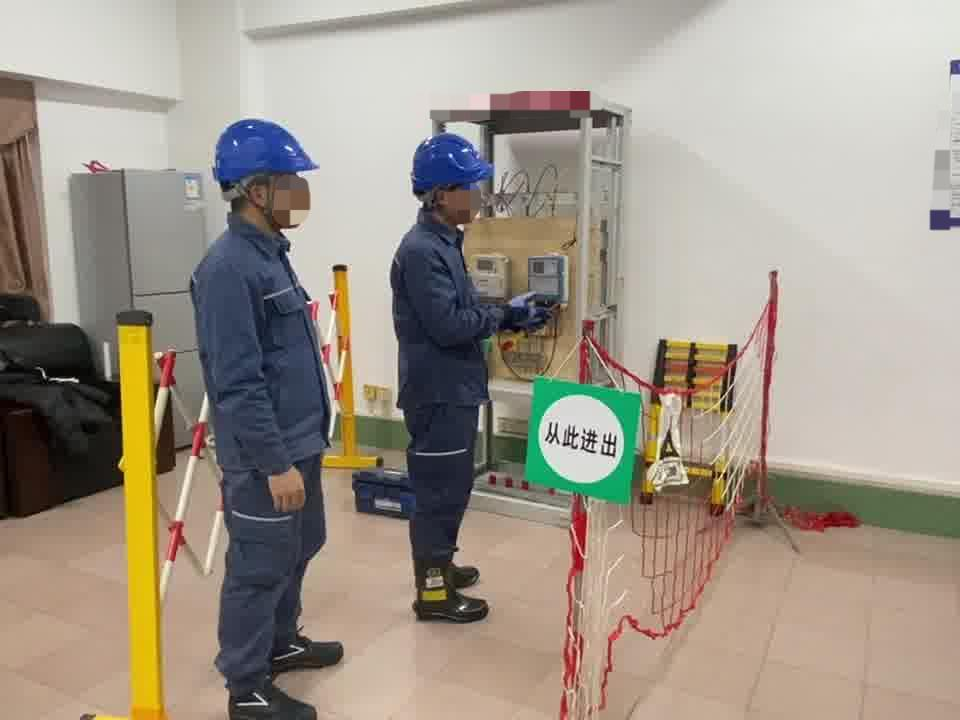halt: (213, 120, 322, 234), (412, 133, 498, 228)
inear: (236, 174, 284, 219), (422, 186, 454, 221)
